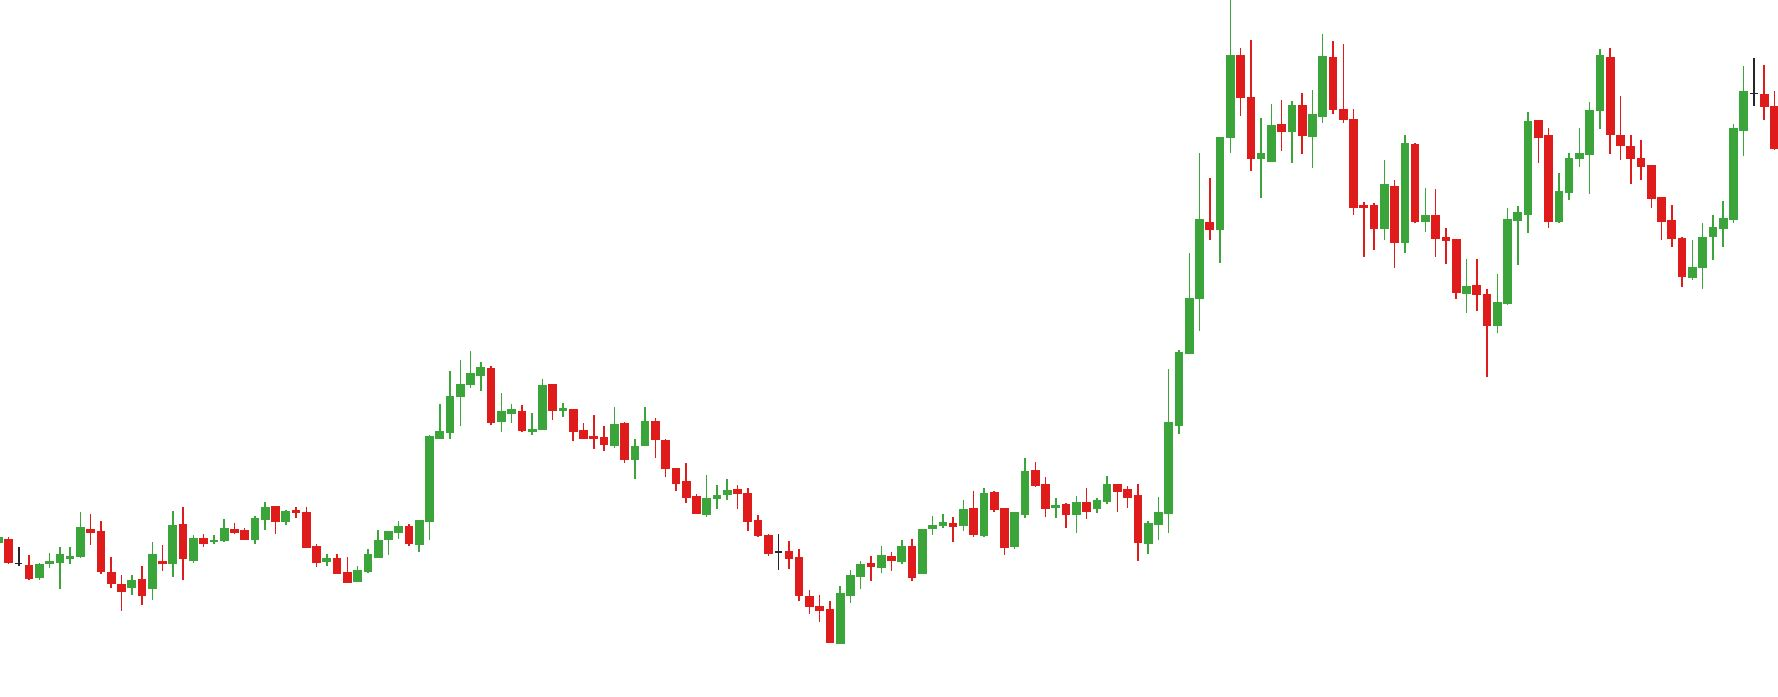buy: (999, 473, 1154, 566), (54, 533, 137, 612)
sell: (1519, 49, 1617, 196), (1245, 36, 1338, 153)
